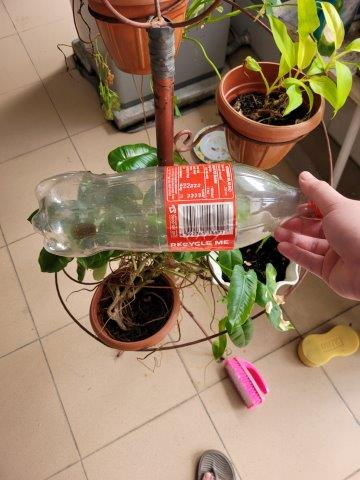botolplastik: (31, 164, 312, 252)
